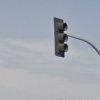Traffic light: (47, 14, 77, 62)
